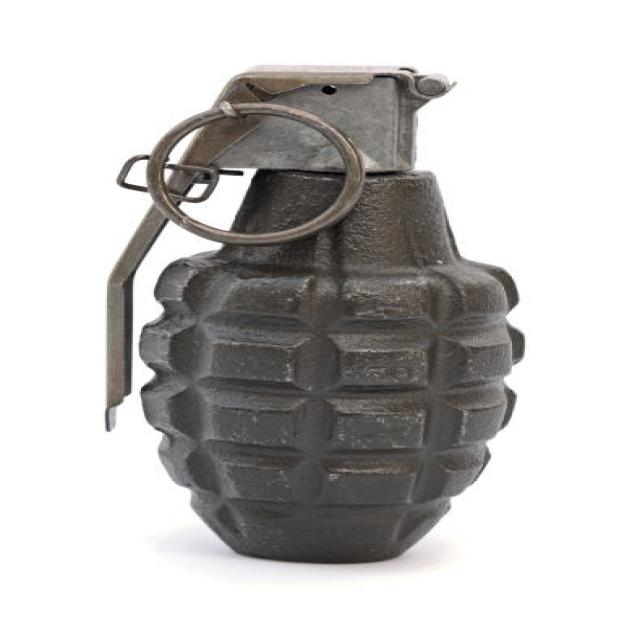grenade: (91, 60, 541, 573)
